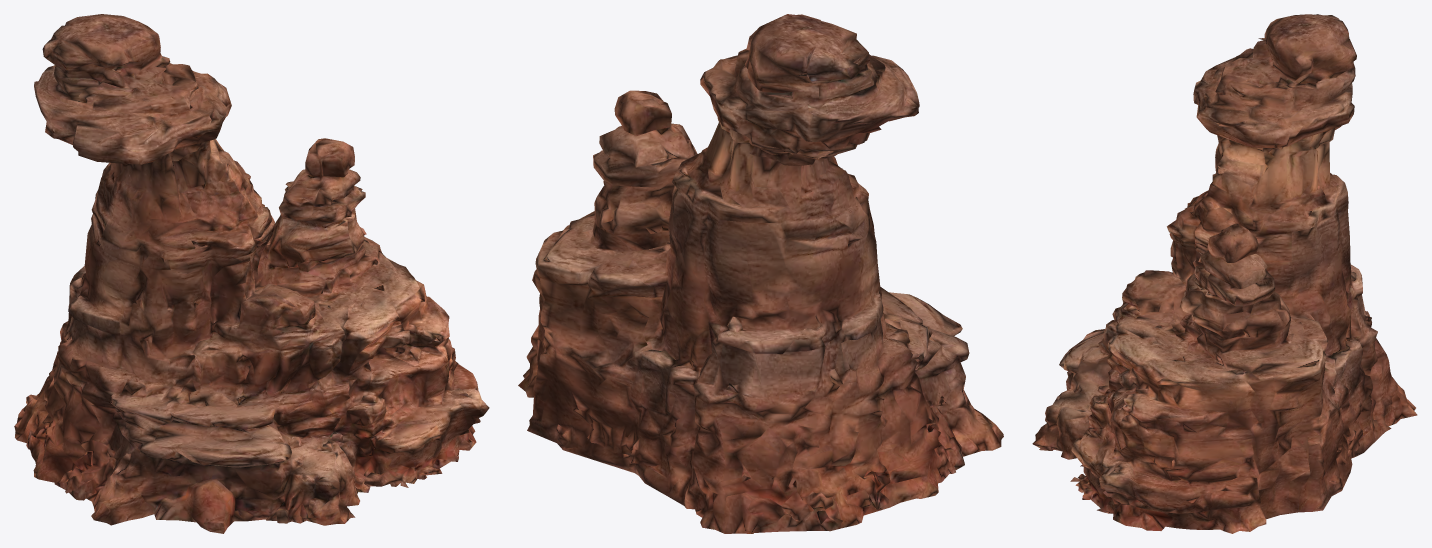
File: Desert_Mushroom_Rock.glb
3 renders of one model, left to right at view 1: azimuth 30°, elevation 25°; view 2: azimuth 150°, elevation 25°; view 3: azimuth 270°, elevation 25°, orthographic. The views are drawn at different scales.
Visible parts, largest first — view 1: Desert_Mushroom_Rock; view 2: Desert_Mushroom_Rock; view 3: Desert_Mushroom_Rock.
Part boxes in pixels (bbox=[...]): Desert_Mushroom_Rock: bbox=[14, 14, 489, 533]; Desert_Mushroom_Rock: bbox=[518, 14, 1003, 533]; Desert_Mushroom_Rock: bbox=[1032, 14, 1417, 533].
Size of the model in its own units: 1.87 by 1.9 by 1.75.
Materials: 1 (1 with a texture image).
